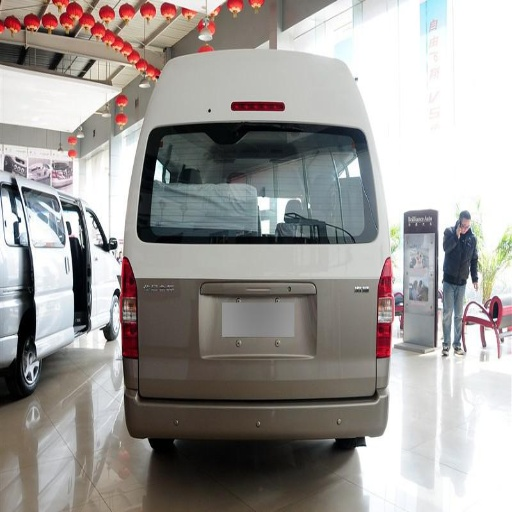back_bumper: (125, 359, 391, 435)
trunk: (139, 244, 381, 395)
